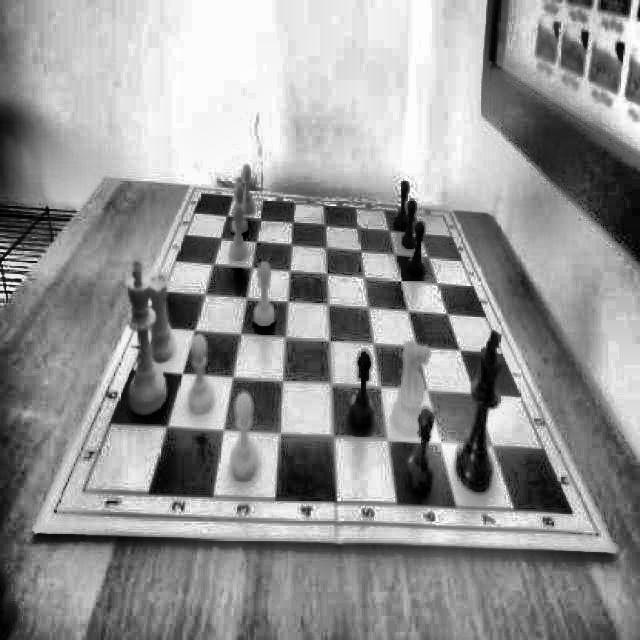black-king: (451, 328, 502, 494)
black-pawn: (406, 409, 436, 497), (349, 348, 373, 430), (408, 224, 425, 278), (394, 182, 410, 234), (402, 200, 418, 248)
white-king: (121, 260, 167, 414)
white-knight: (391, 343, 429, 436)
white-pawn: (229, 389, 259, 479), (190, 334, 219, 418), (254, 258, 276, 326), (230, 205, 249, 261), (232, 182, 246, 235), (240, 163, 253, 213)
white-rook: (148, 272, 177, 358)
